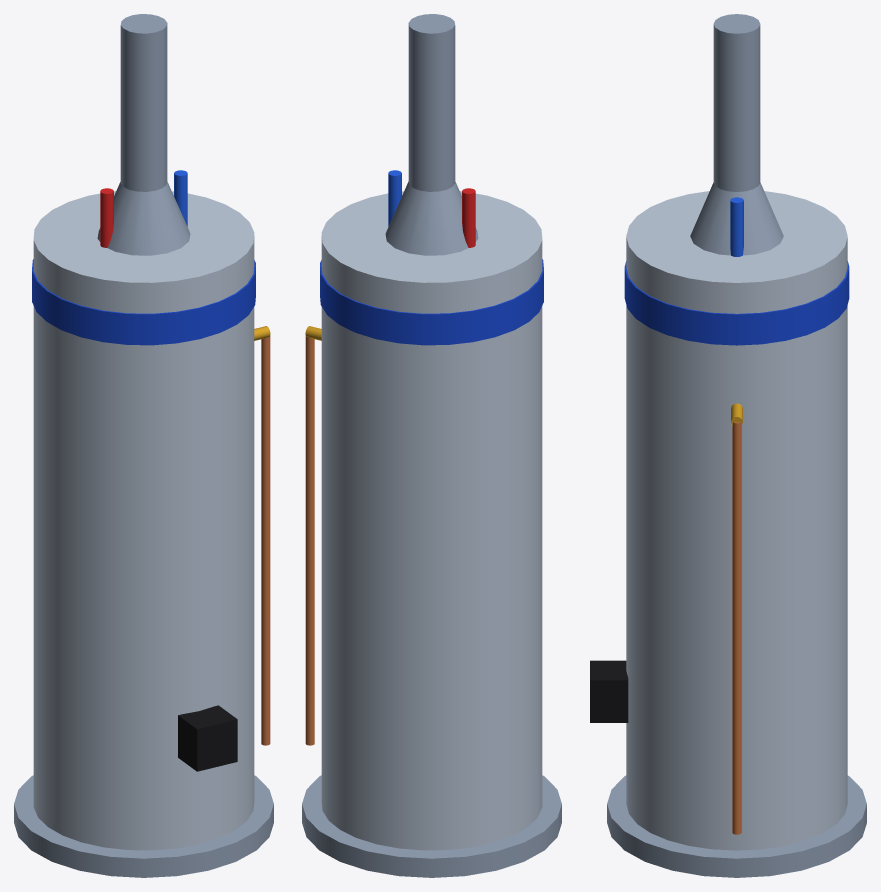
File: wh-tank-gas-50.glb
3 renders of one model, left to right at view 1: azimuth 30°, elevation 25°; view 2: azimuth 150°, elevation 25°; view 3: azimuth 270°, elevation 25°, orthographic.
Visible parts, largest first — view 1: plumbing-equipment-water-heater-tank-gas; view 2: plumbing-equipment-water-heater-tank-gas; view 3: plumbing-equipment-water-heater-tank-gas.
Part boxes in pixels (x1,y1,x2,y2): plumbing-equipment-water-heater-tank-gas: (14,14,273,877); plumbing-equipment-water-heater-tank-gas: (302,14,561,877); plumbing-equipment-water-heater-tank-gas: (590,14,866,877).
Bounding box in the file's own units: 0.6455 × 2.07 × 0.65.
